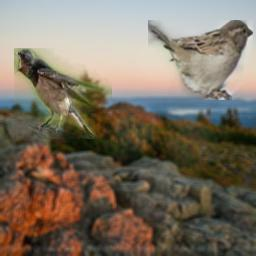Sparrow: (148, 20, 253, 100)
Swallow: (14, 48, 112, 139)
